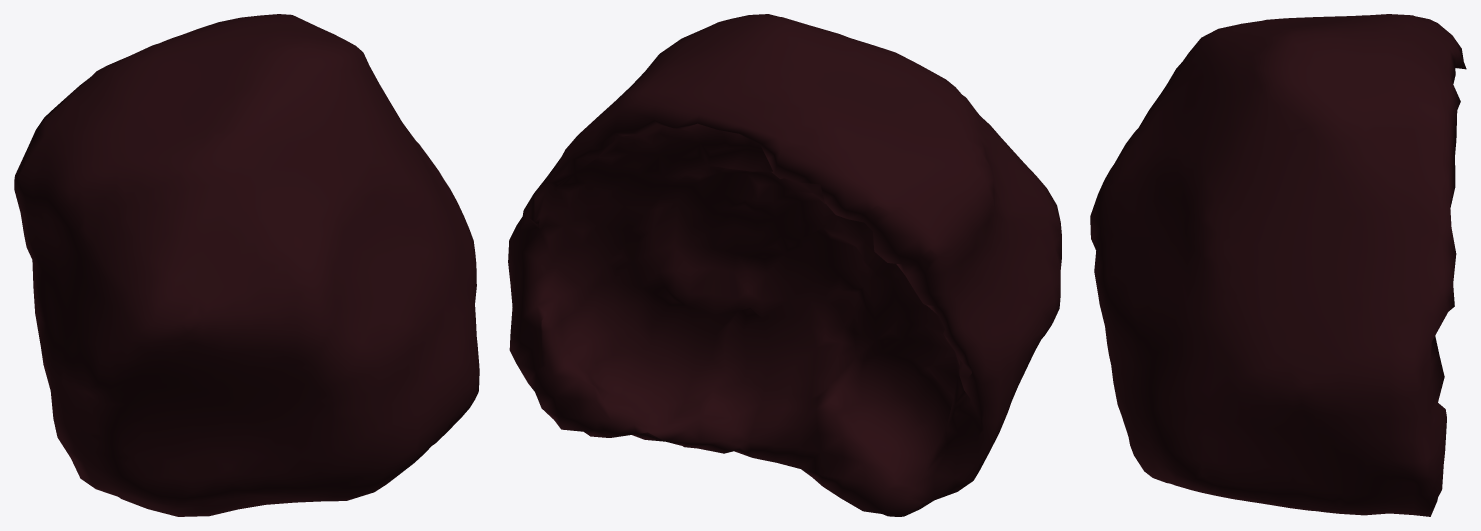
Rendered from SM_rockface_mesh_lod0.fbx.
The picture shows the model from 3 angles, left to right: view 1: azimuth 30°, elevation 25°; view 2: azimuth 150°, elevation 25°; view 3: azimuth 270°, elevation 25°; orthographic projection. The views are drawn at different scales.
Visible parts, largest first — view 1: rock face low; view 2: rock face low; view 3: rock face low.
Boxes of the visible parts, bbox=[...] form: rock face low: bbox=[14, 14, 479, 516]; rock face low: bbox=[508, 14, 1061, 516]; rock face low: bbox=[1090, 14, 1466, 516].
Bounding box in the file's own units: 641 × 618 × 452.
